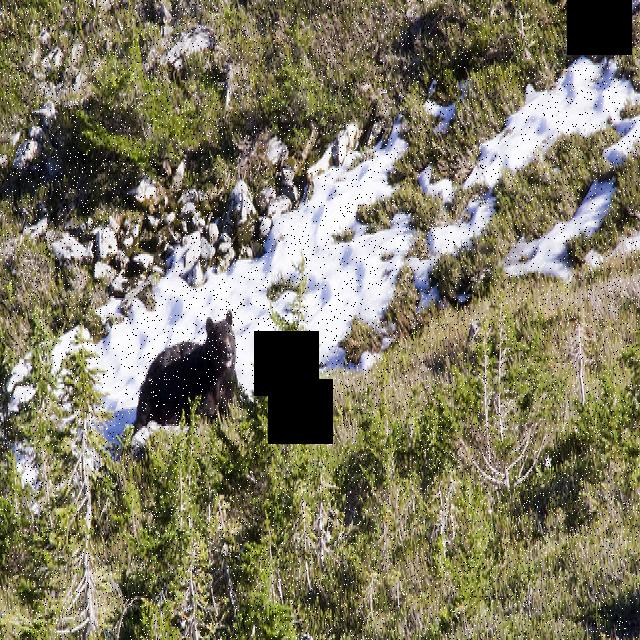Bear: (124, 322, 253, 422)
